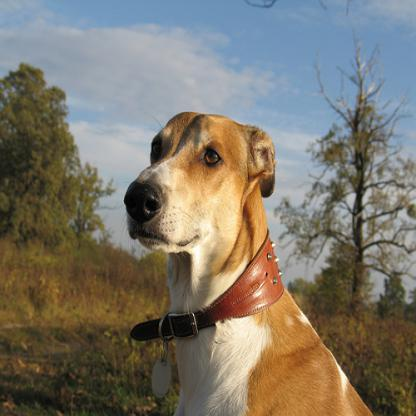dog: (124, 110, 374, 415)
